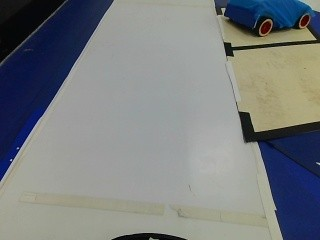car: (219, 0, 319, 37)
